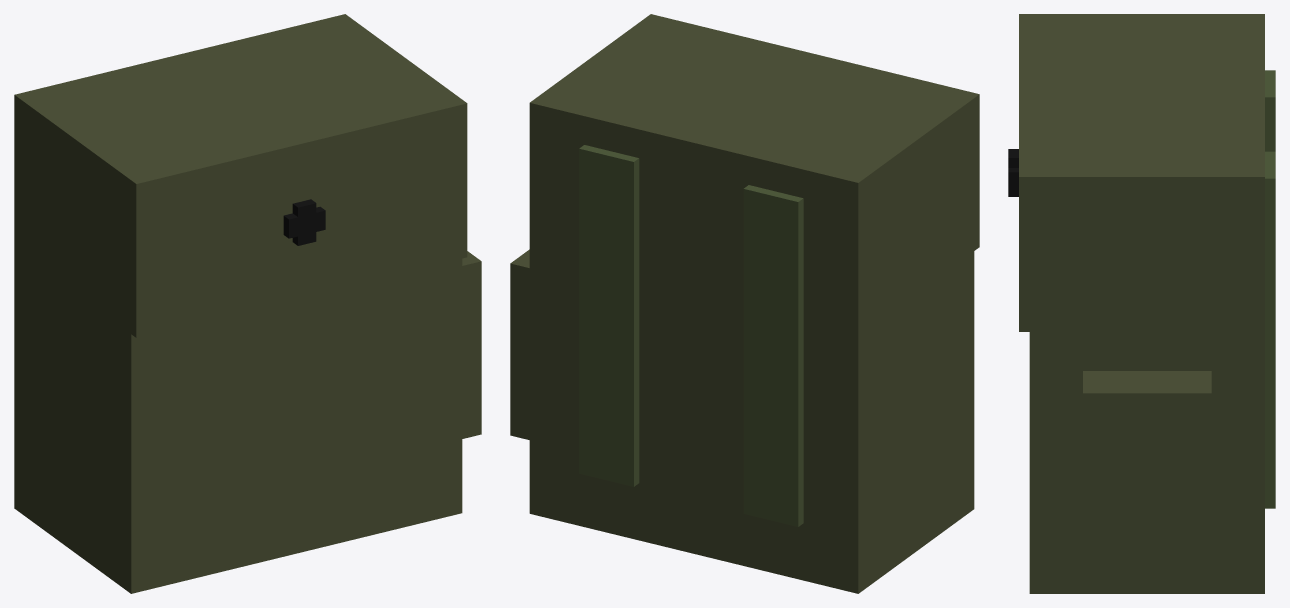
Rendered from canteen_pouch.glb.
3 renders of one model, left to right at view 1: azimuth 30°, elevation 25°; view 2: azimuth 150°, elevation 25°; view 3: azimuth 270°, elevation 25°, orthographic.
Visible parts, largest first — view 1: canteen_pouch:compound; view 2: canteen_pouch:compound; view 3: canteen_pouch:compound.
Boxes of the visible parts, box(x1,y1,x2,y2) form: canteen_pouch:compound: box(14, 14, 481, 593); canteen_pouch:compound: box(510, 14, 979, 593); canteen_pouch:compound: box(1008, 14, 1275, 593).
Bounding box in the file's own units: 0.164 × 0.172 × 0.1.
